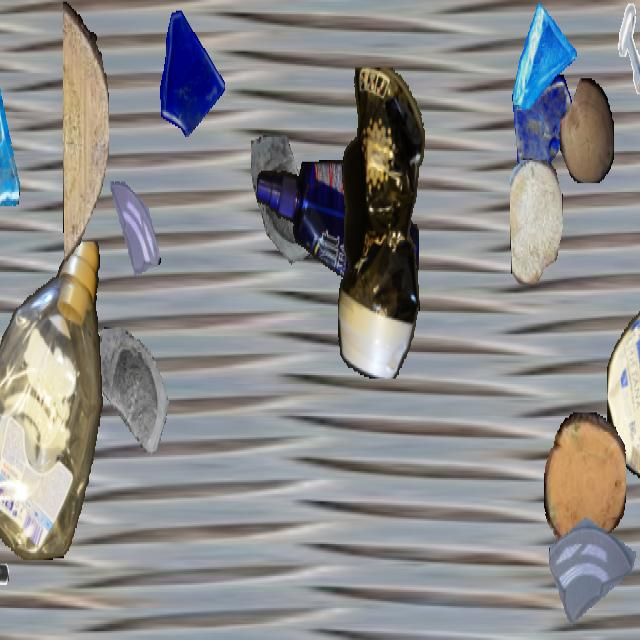glass: (249, 135, 335, 288), (549, 486, 635, 638), (97, 323, 181, 473), (151, 2, 227, 137), (510, 75, 576, 192), (511, 2, 577, 119), (105, 180, 163, 282), (0, 76, 22, 205)
metal: (610, 2, 640, 94), (0, 528, 9, 620)
plastic: (0, 242, 105, 558), (338, 67, 426, 377), (257, 160, 419, 306), (607, 304, 640, 496)
wood: (63, 2, 109, 261), (544, 413, 626, 551), (510, 158, 562, 283), (560, 78, 614, 182)
